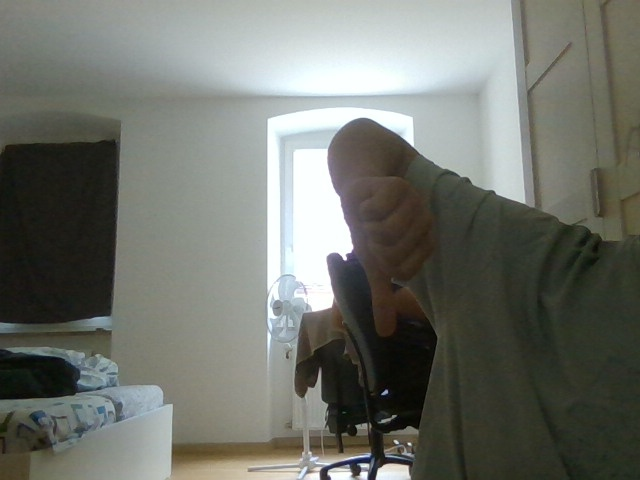thumbs_down: (318, 185, 453, 339)
